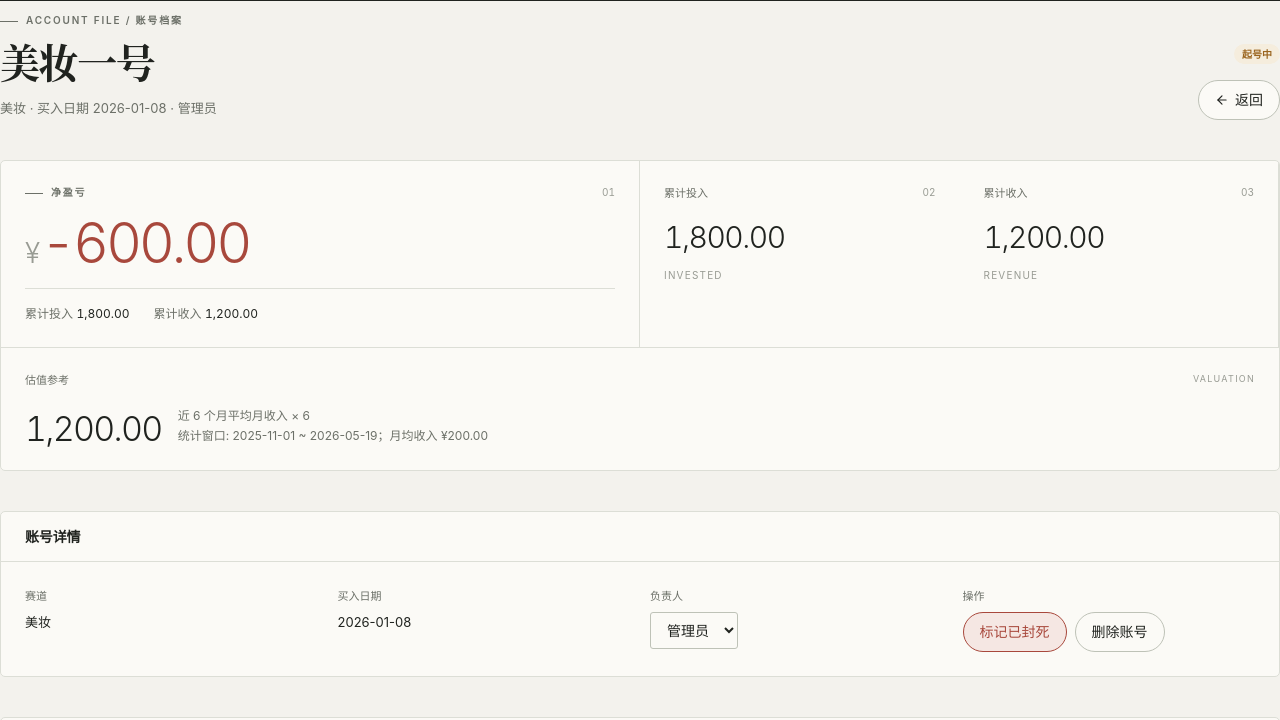
S8 封死二次确认 › Esc 取消确认框，不发任何 PATCH
The width and height of the screenshot is (1280, 720).
Click the button "标记已封死" at (1014, 632), box top-left (962, 612), bottom-right (1066, 652)
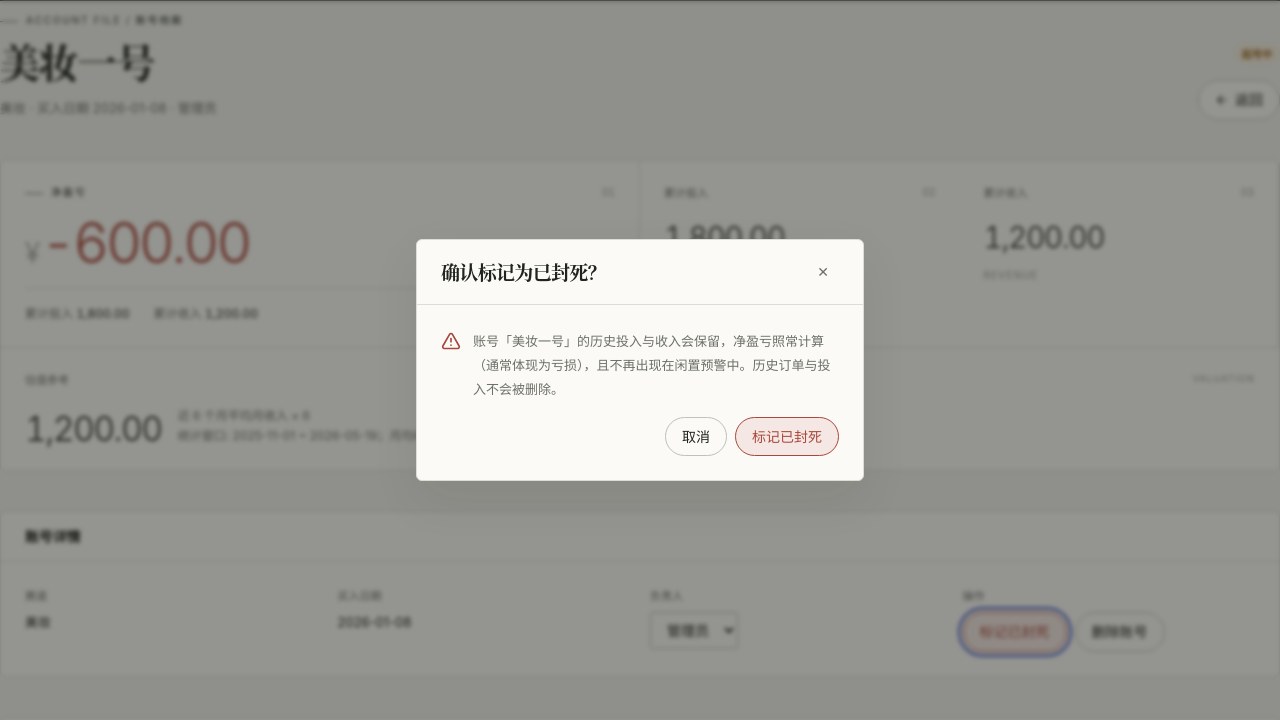
Expected: the dialog is shown, top-left (416, 239), bottom-right (864, 481)
Press Escape
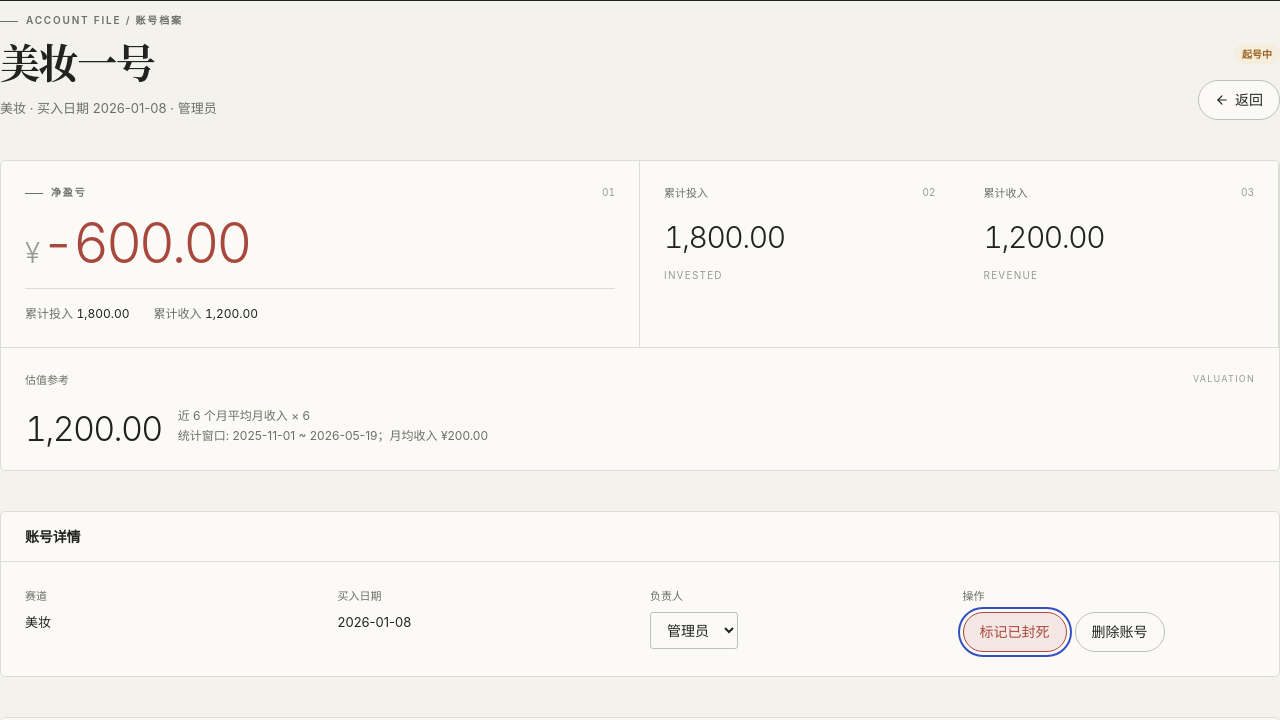
Expected: the dialog is gone
